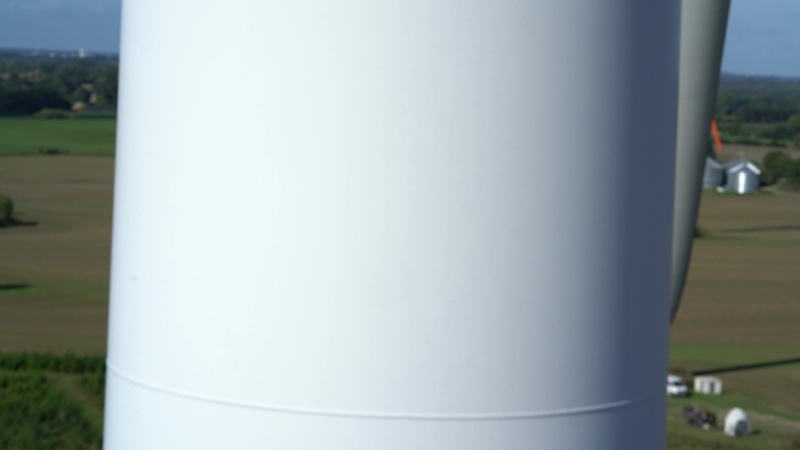weldseam: (100, 351, 672, 424)
